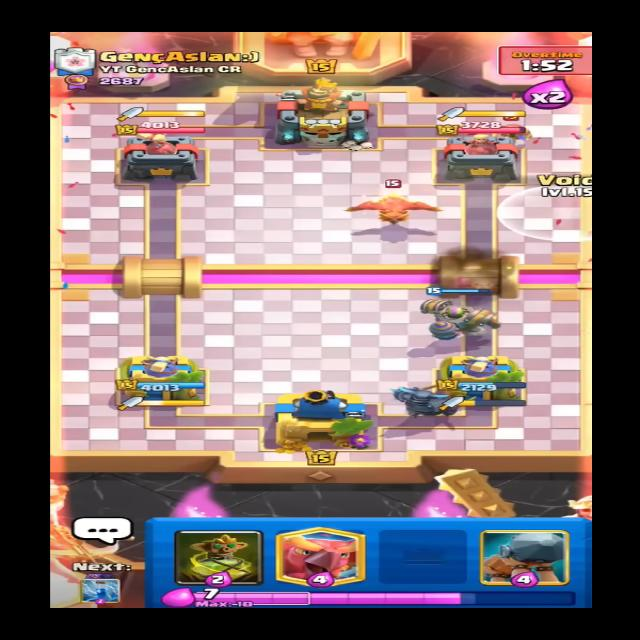phoenix: (340, 177, 449, 227)
wizard: (496, 111, 544, 140)
